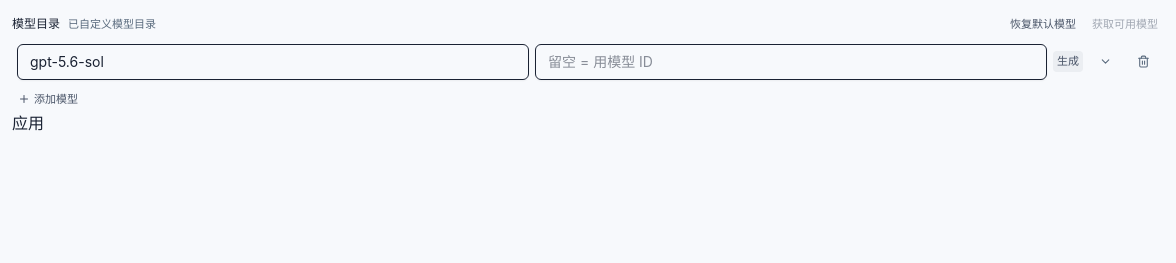
it: ModelCatalogEditor 目录区 › 输入类型：至少留一种（仅剩一种时该框禁用）；改动进 overrides
Click the button named "模型选项 1".
click(1105, 62)  # box top-left (1089, 46), bottom-right (1121, 78)
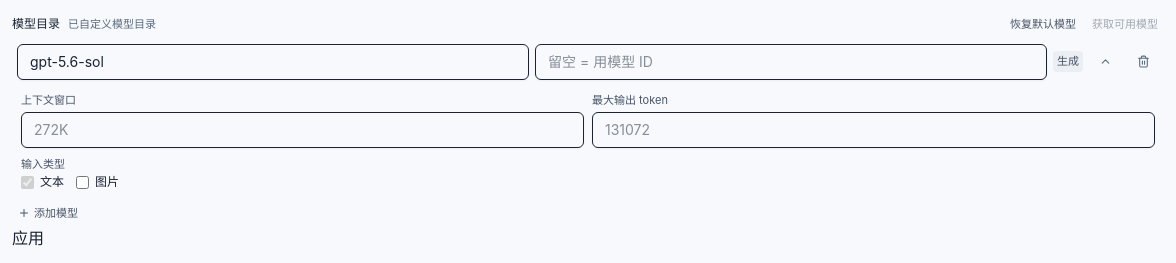
Now the checkbox named "文本 1" is checked, box top-left (21, 176), bottom-right (34, 188)
Now the checkbox named "图片 1" is not checked
Now the checkbox named "文本 1" is disabled, box top-left (21, 176), bottom-right (34, 188)
Click the checkbox named "图片 1".
click(82, 182)  # box top-left (76, 176), bottom-right (89, 188)
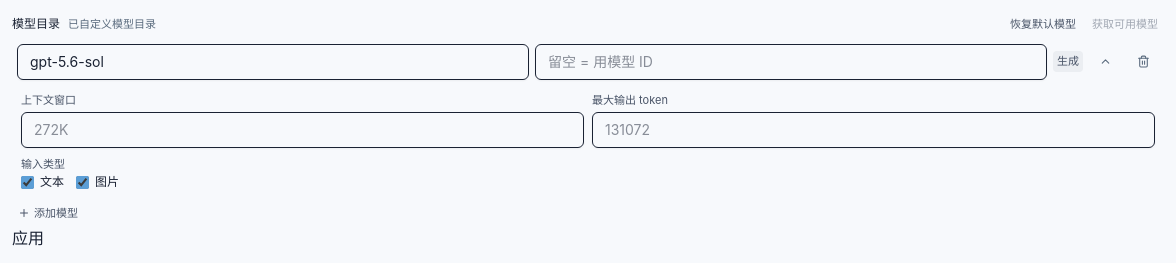
Now the checkbox named "图片 1" is checked, box top-left (76, 176), bottom-right (89, 188)
Now the checkbox named "文本 1" is enabled
Click the checkbox named "文本 1".
click(28, 182)  # box top-left (21, 176), bottom-right (34, 188)
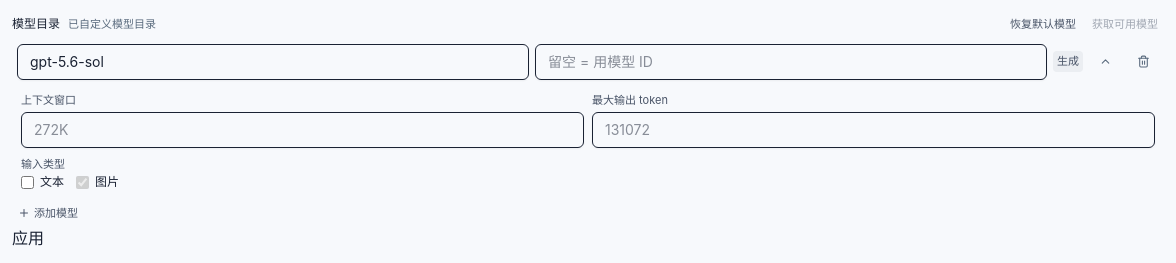
Now the checkbox named "图片 1" is checked, box top-left (76, 176), bottom-right (89, 188)
Now the checkbox named "图片 1" is disabled, box top-left (76, 176), bottom-right (89, 188)
